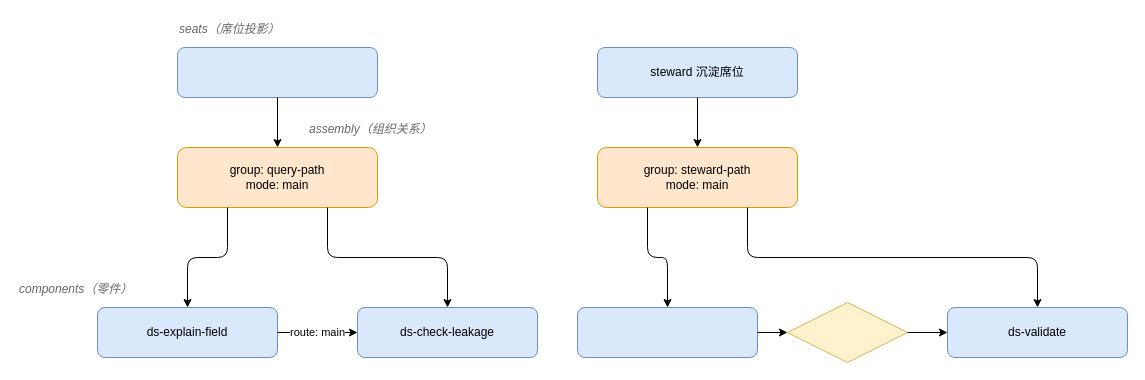
Image size: 1145x380. Some labels were removed from this diagram. Here are the shapes that lost their labels. From the top down, the centre of each, then its label:
At (277,72): "copilot 查询席位".
At (667,332): "ds-suggest-contract".
At (847,332): "checkpoint 人工确认".
